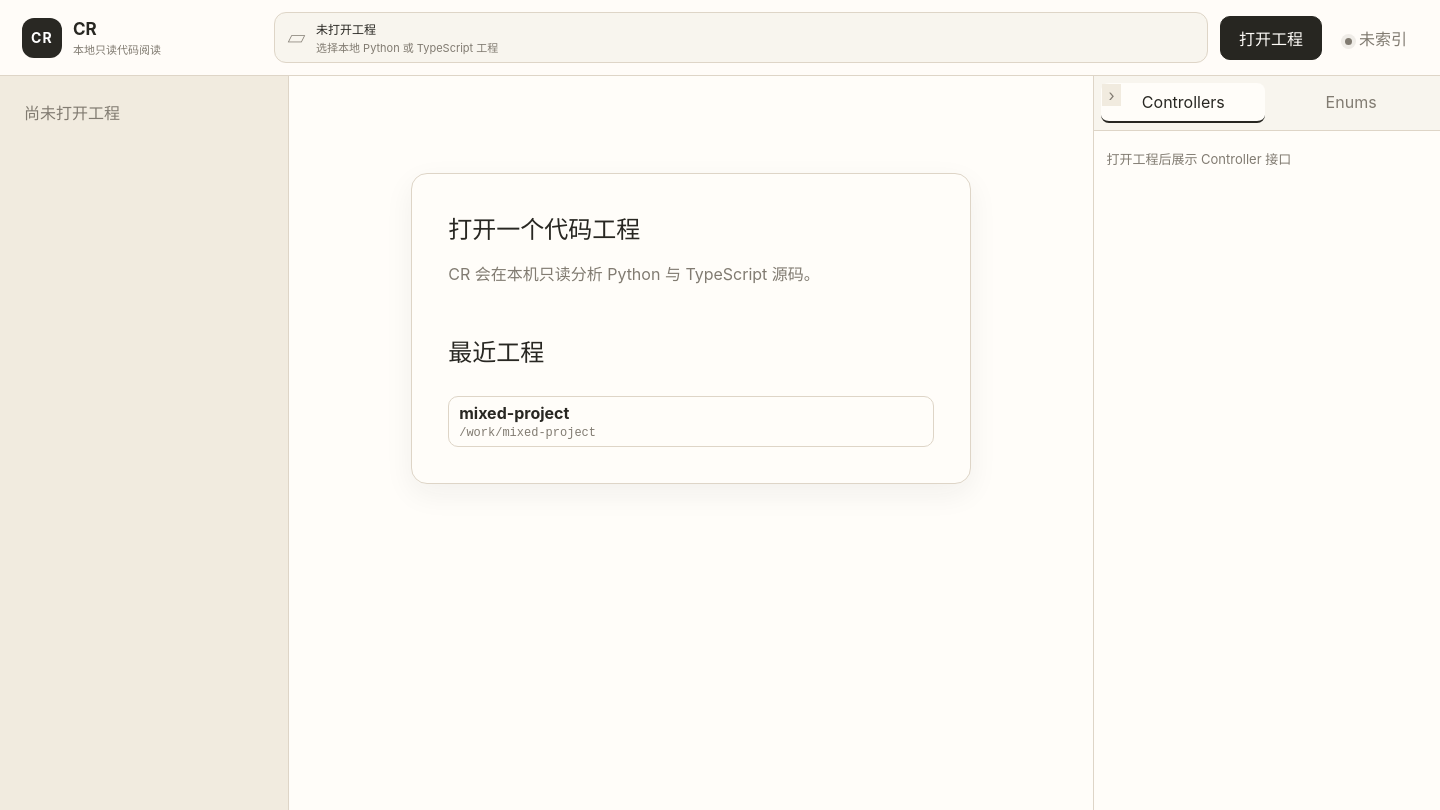
Test case: CR application shell › offers recent projects and reopens the selected one
The width and height of the screenshot is (1440, 810).
Click the button with aria-label "重新打开 mixed-project": (514, 413) [448, 396, 934, 447]
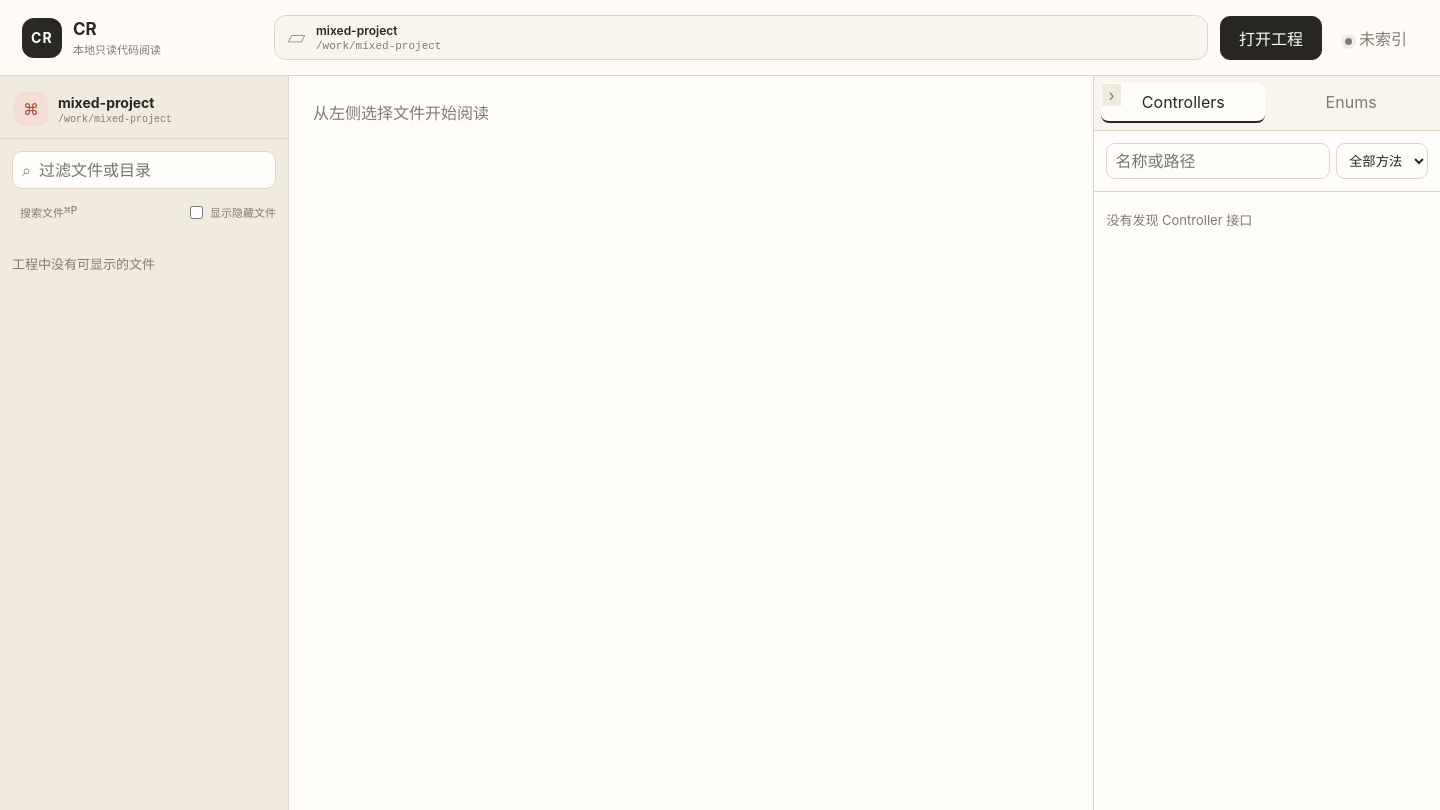
Expected: the element named "当前工程" shows "mixed-project", [316, 23, 398, 38]
